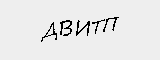В: (59, 17, 72, 39)
Д: (40, 21, 59, 44)
И: (76, 17, 90, 38)
П: (101, 13, 119, 32)
Т: (90, 17, 105, 37)
